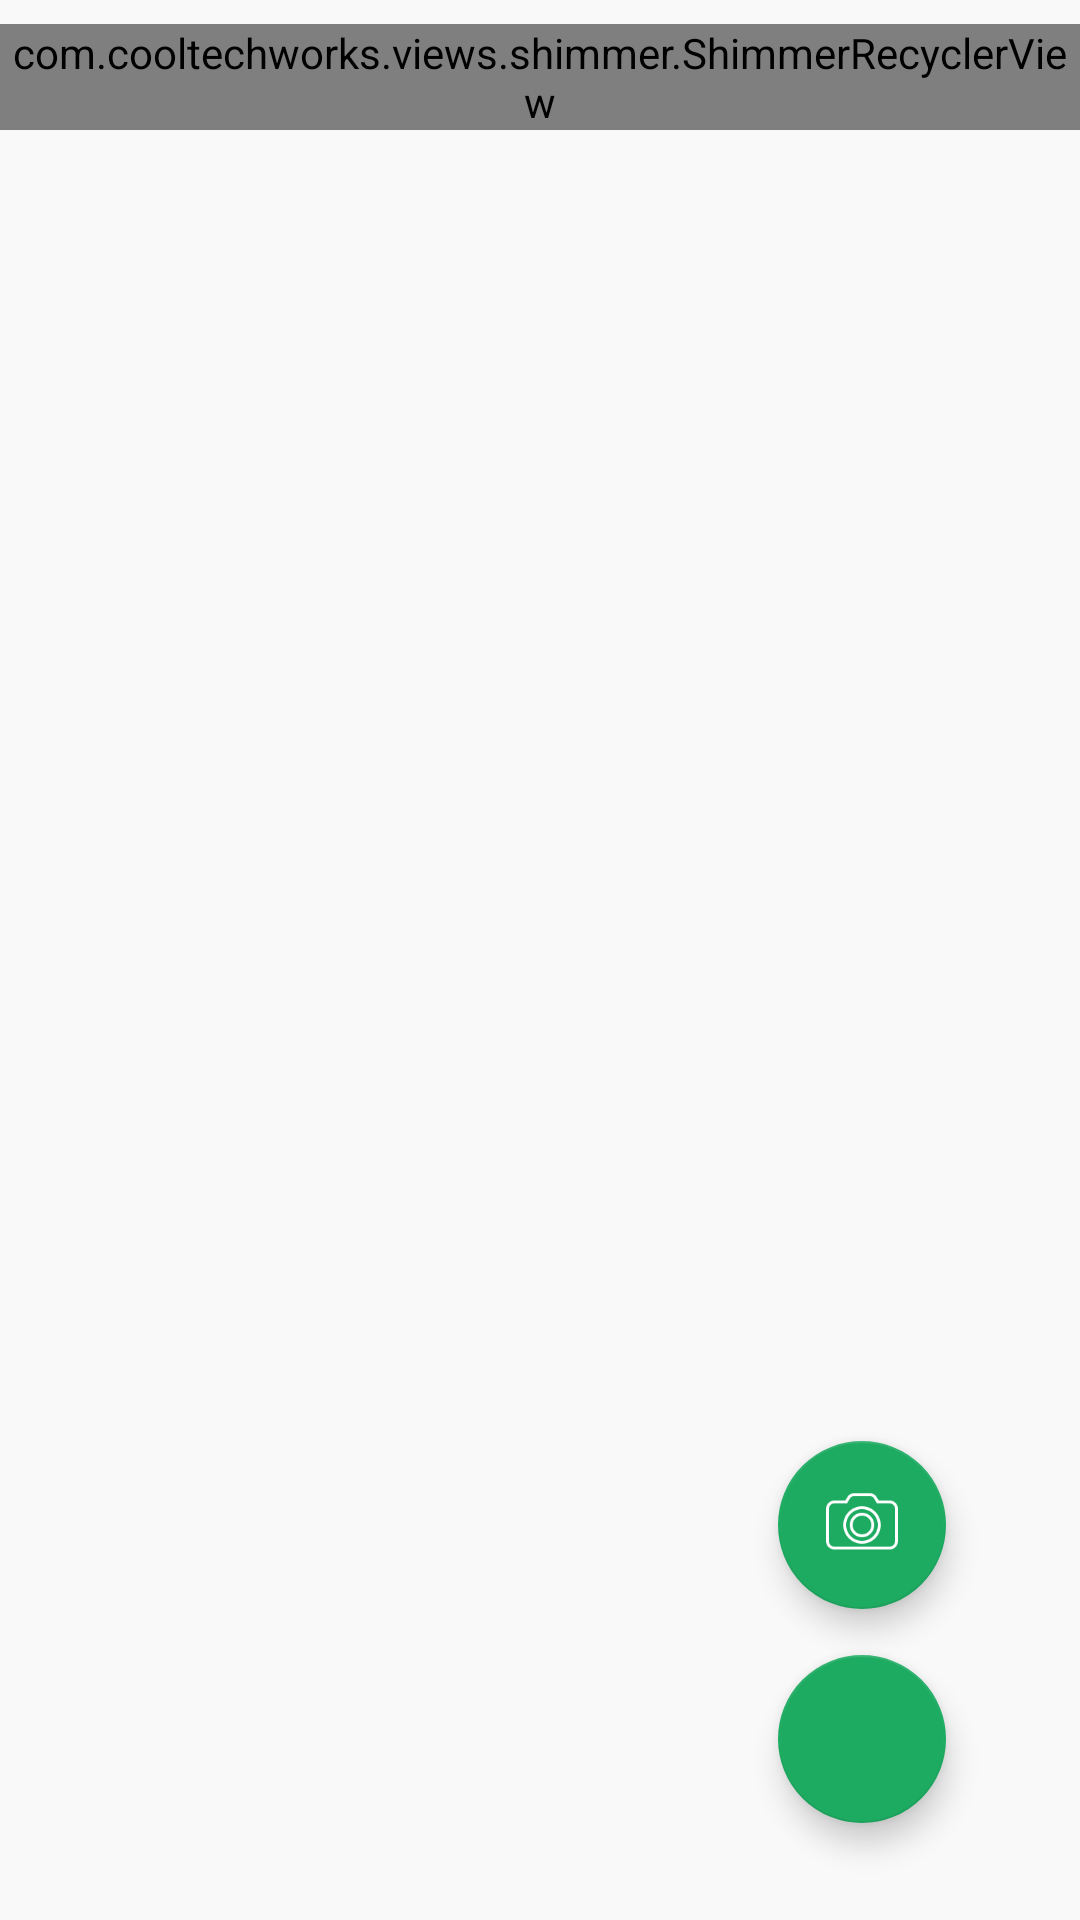

Named icons in this screenshot (1080 × 1920) and their bounding boxes, (x1, y1, x2, y2):
Add Your Status By Camera: (778, 1441, 946, 1609)
